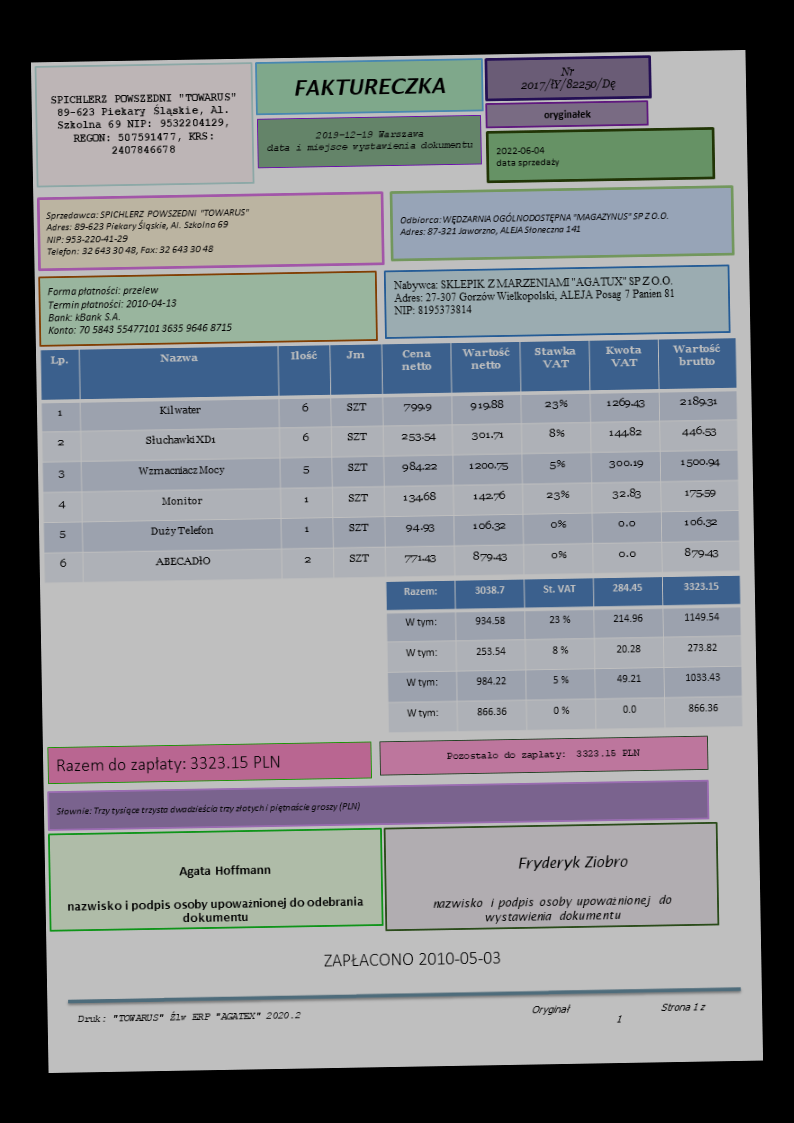Table: (40, 337, 739, 583), (385, 574, 744, 733)
TextBox: (49, 90, 238, 158), (392, 273, 678, 317), (43, 206, 253, 258), (45, 281, 234, 338), (66, 893, 365, 926), (396, 208, 671, 238), (432, 893, 673, 925), (54, 799, 362, 819), (263, 125, 474, 154), (55, 753, 281, 777), (531, 1001, 709, 1026), (322, 948, 503, 969), (76, 1009, 302, 1025), (293, 75, 446, 98), (445, 747, 641, 764), (519, 64, 619, 94), (516, 851, 630, 874), (494, 144, 561, 170), (177, 863, 272, 880), (542, 107, 593, 123)
